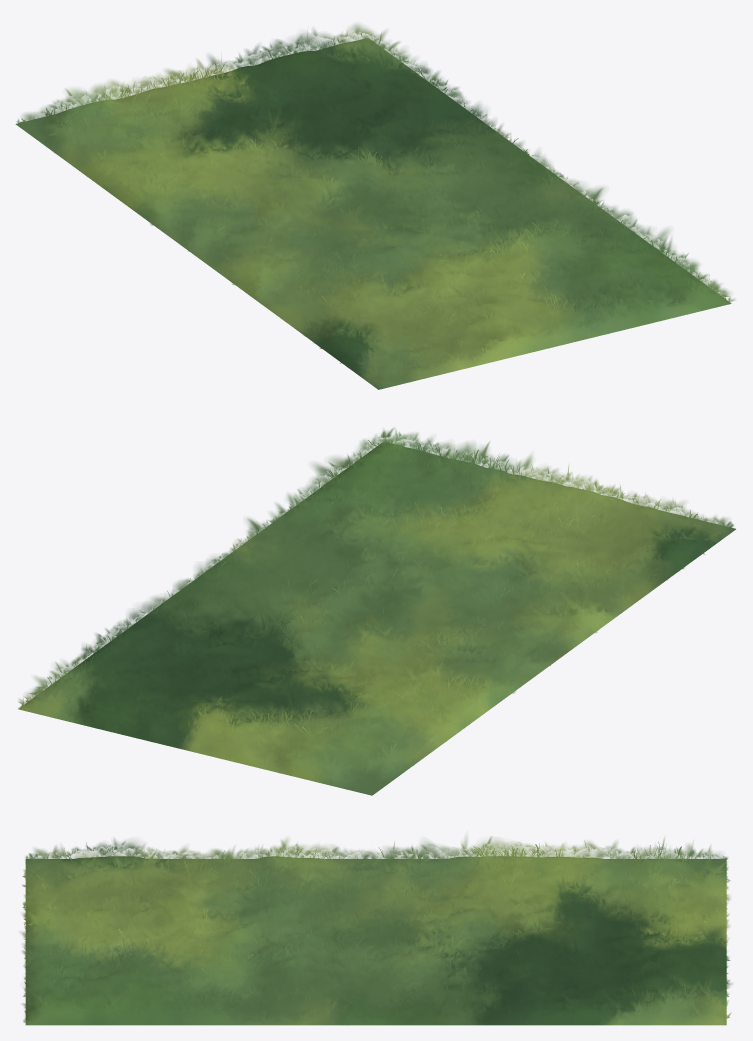
File: lawn-3.2x5.7.glb
The picture shows the model from 3 angles, top to bottom: view 1: azimuth 30°, elevation 25°; view 2: azimuth 150°, elevation 25°; view 3: azimuth 270°, elevation 25°; orthographic projection. The views are drawn at different scales.
Parts seen in each view (by area): view 1: Kowloon painted lawn; view 2: Kowloon painted lawn; view 3: Kowloon painted lawn.
Part boxes in pixels (x1,y1,x2,y2): Kowloon painted lawn: (15,24,734,389); Kowloon painted lawn: (18,428,735,795); Kowloon painted lawn: (20,836,731,1025).
Size of the model in its own units: 3.4 by 0.3356 by 5.9.
Materials: 3 (2 with a texture image).
